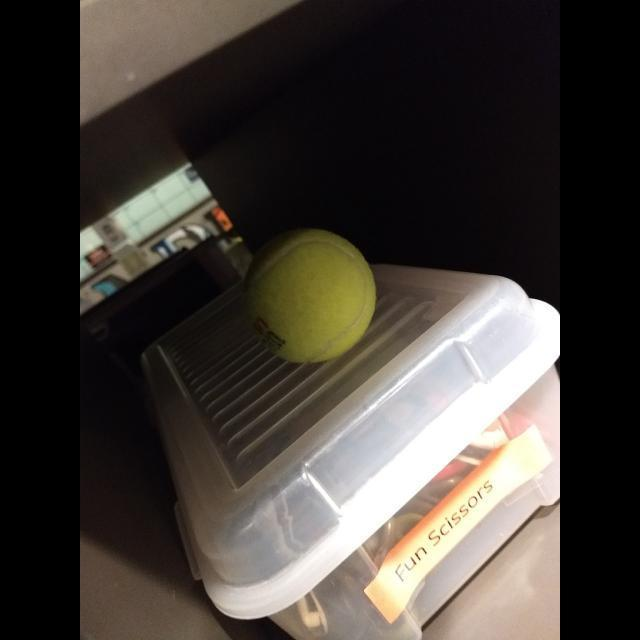tennis-ball: (238, 227, 380, 365)
